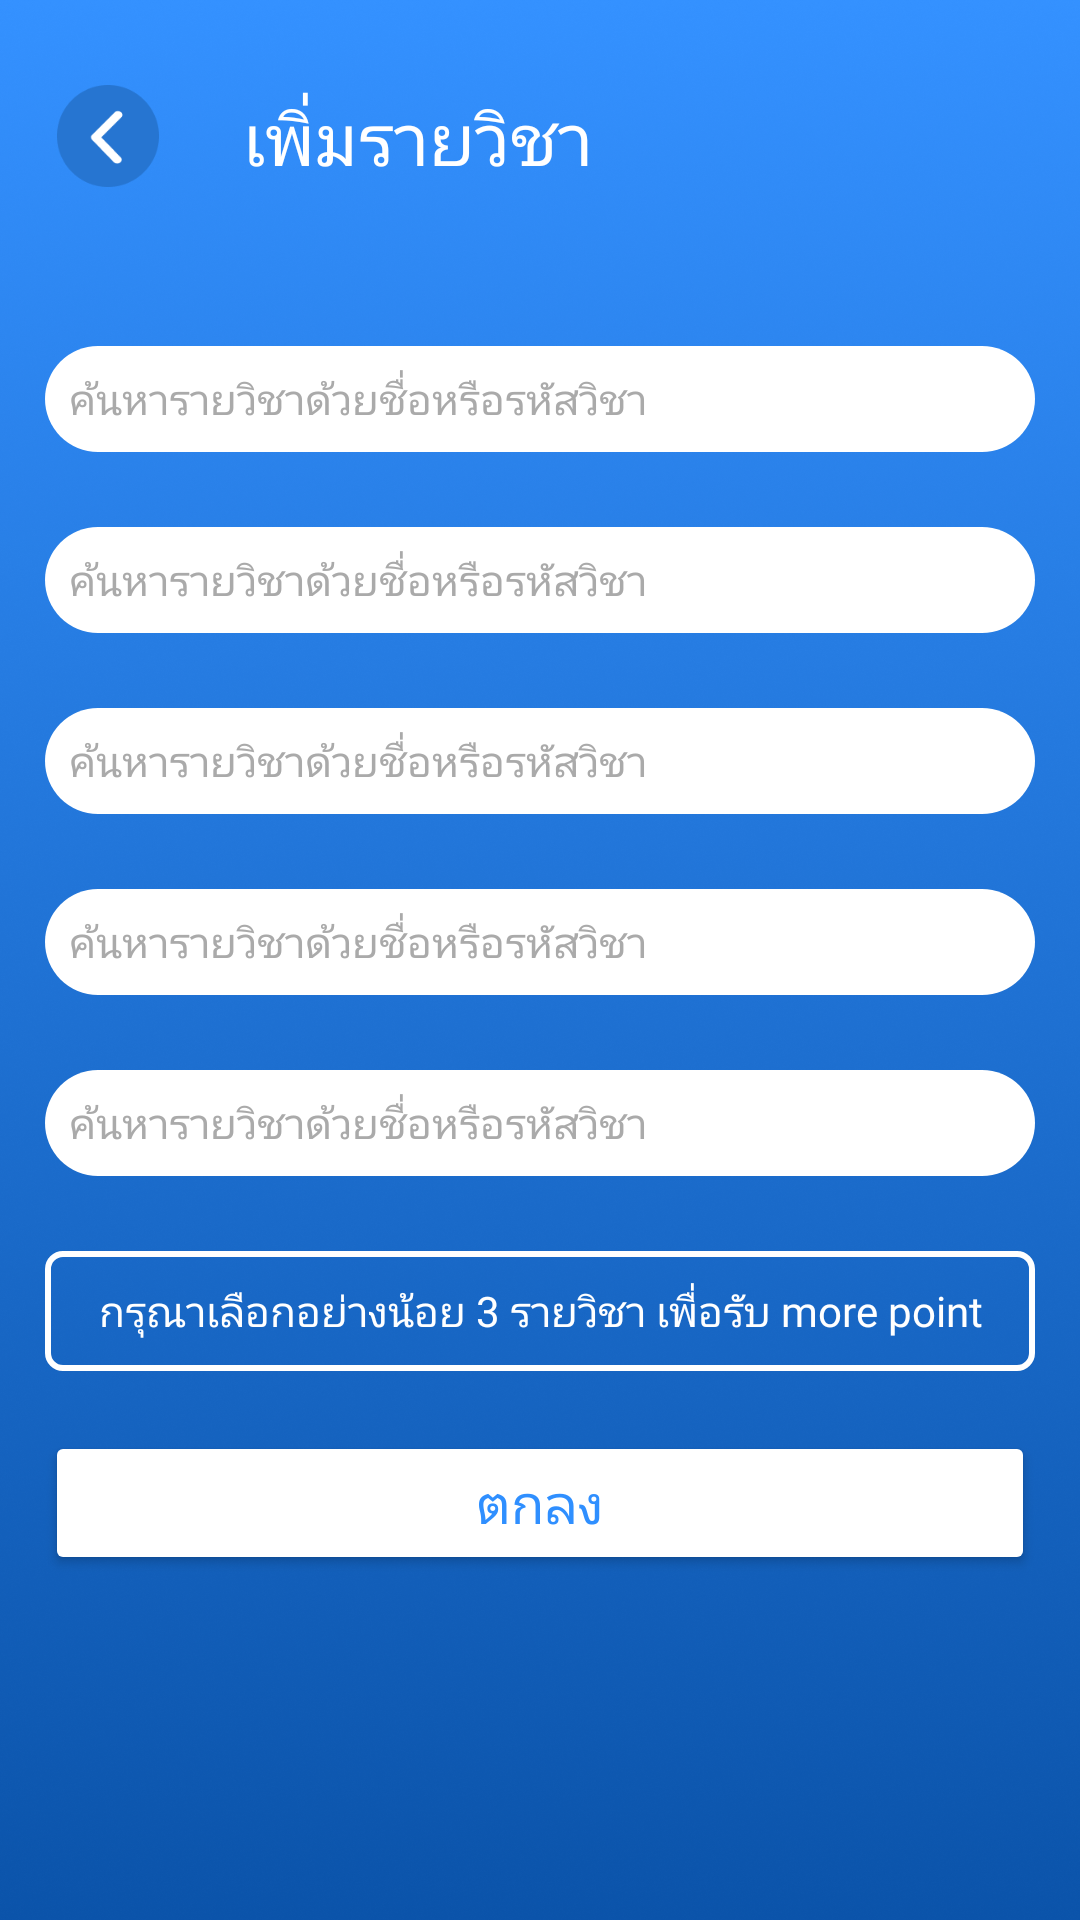

Named icons in this screenshot (1080 x 1920) and their centers, (x,y):
back circle: (108,136)
